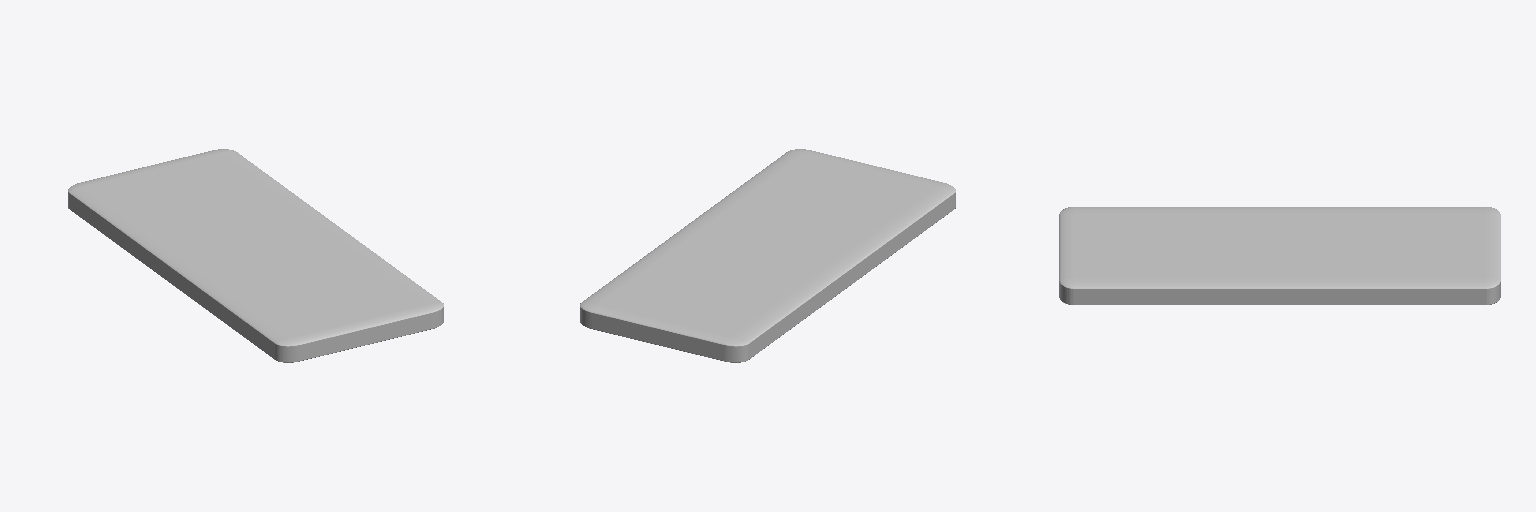
File: wirelesscharingReceiver.obj
The picture shows the model from 3 angles: view 1: azimuth 30°, elevation 25°; view 2: azimuth 150°, elevation 25°; view 3: azimuth 270°, elevation 25°; orthographic projection.
Parts seen in each view (by area): view 1: Cube.004; view 2: Cube.004; view 3: Cube.004.
Part boxes in pixels (x1,y1,x2,y2): Cube.004: (68,149,443,362); Cube.004: (580,149,955,362); Cube.004: (1059,207,1500,304).
Bounding box in the file's own units: 8.81 × 1.05 × 20.09.